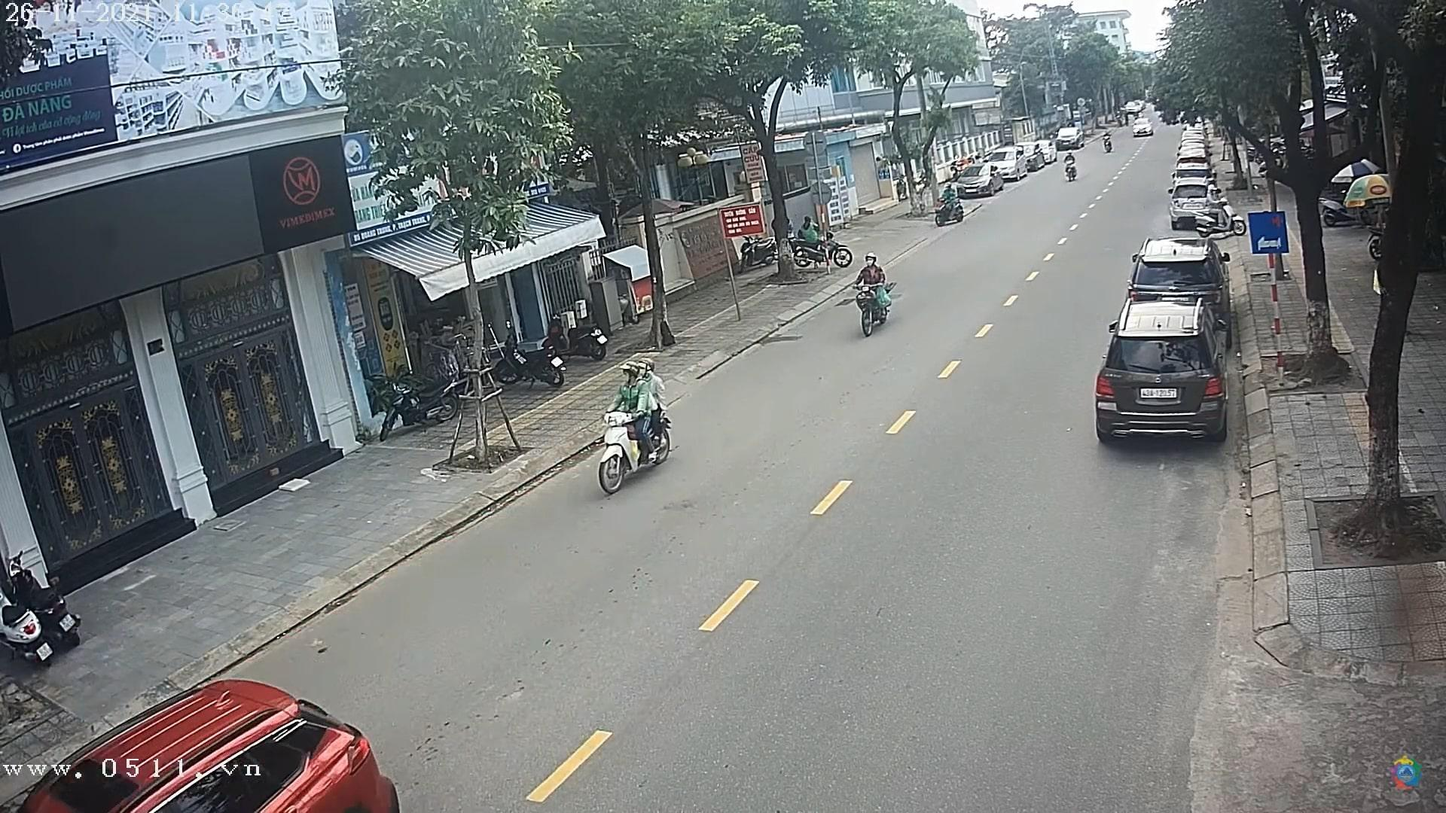car: (956, 161, 1008, 197), (1057, 125, 1086, 149), (1133, 124, 1156, 136)
motorbike: (599, 405, 677, 503), (853, 269, 903, 341)
